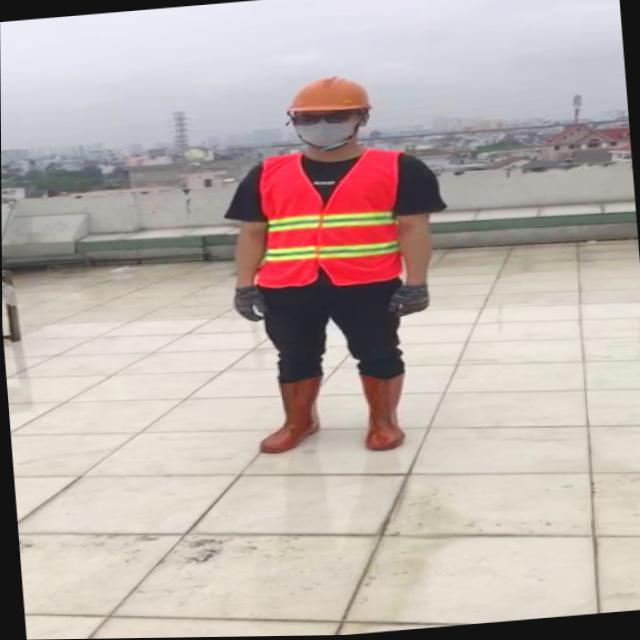goggles_on: (292, 106, 358, 130)
